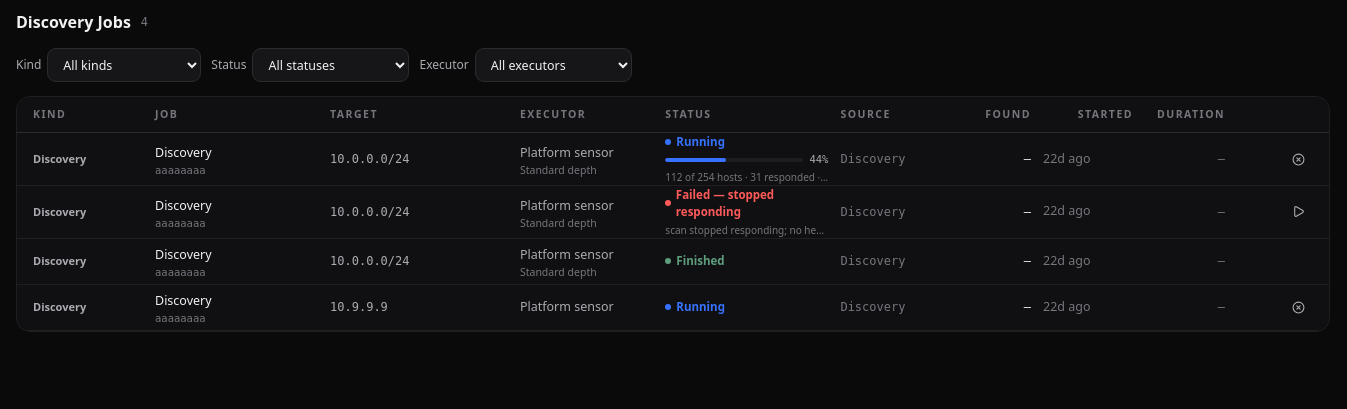
Test: cancel › shows the server's reason when the cancel is refused
Click the button named "Cancel job" in the row of "44" at (1298, 159), box [1284,145,1313,173]
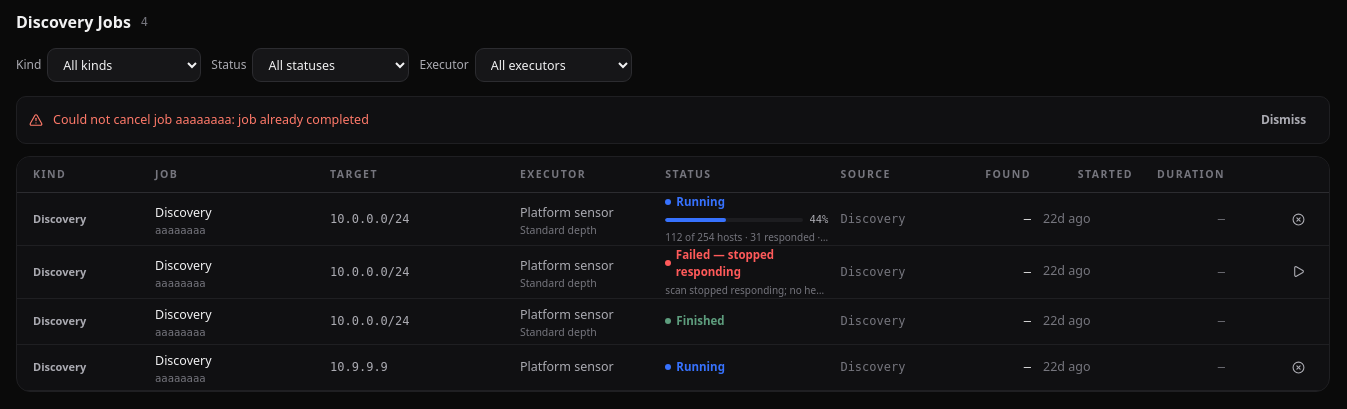
Result: the message "Could not cancel job aaaaaaaa: job already completed Dismiss" is shown at [16,96,1330,144]
